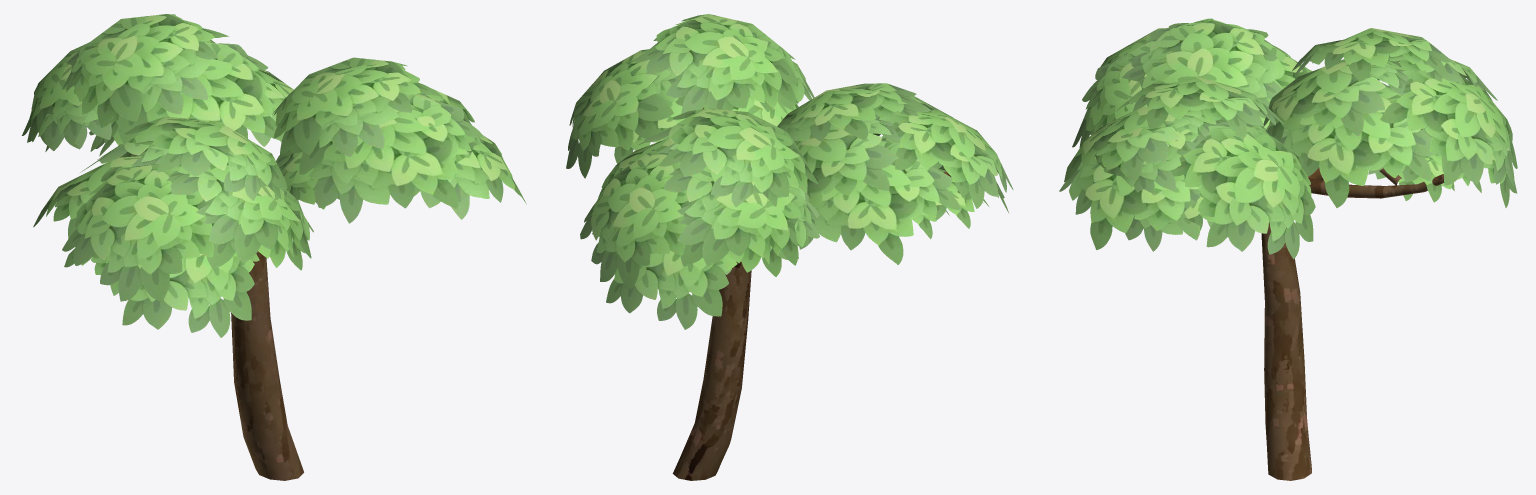
File: tree_2.glb
The picture shows the model from 3 angles, left to right: view 1: azimuth 30°, elevation 25°; view 2: azimuth 150°, elevation 25°; view 3: azimuth 270°, elevation 25°; orthographic projection. The views are drawn at different scales.
Visible parts, largest first — view 1: Tree_2; view 2: Tree_2; view 3: Tree_2.
Part boxes in pixels (left/top/right/bottom): Tree_2: left=22, top=14, right=526, bottom=480; Tree_2: left=566, top=14, right=1013, bottom=480; Tree_2: left=1059, top=18, right=1517, bottom=480.
Size of the model in its own units: 5.89 by 5.43 by 5.87.
Materials: 2 (2 with a texture image).
